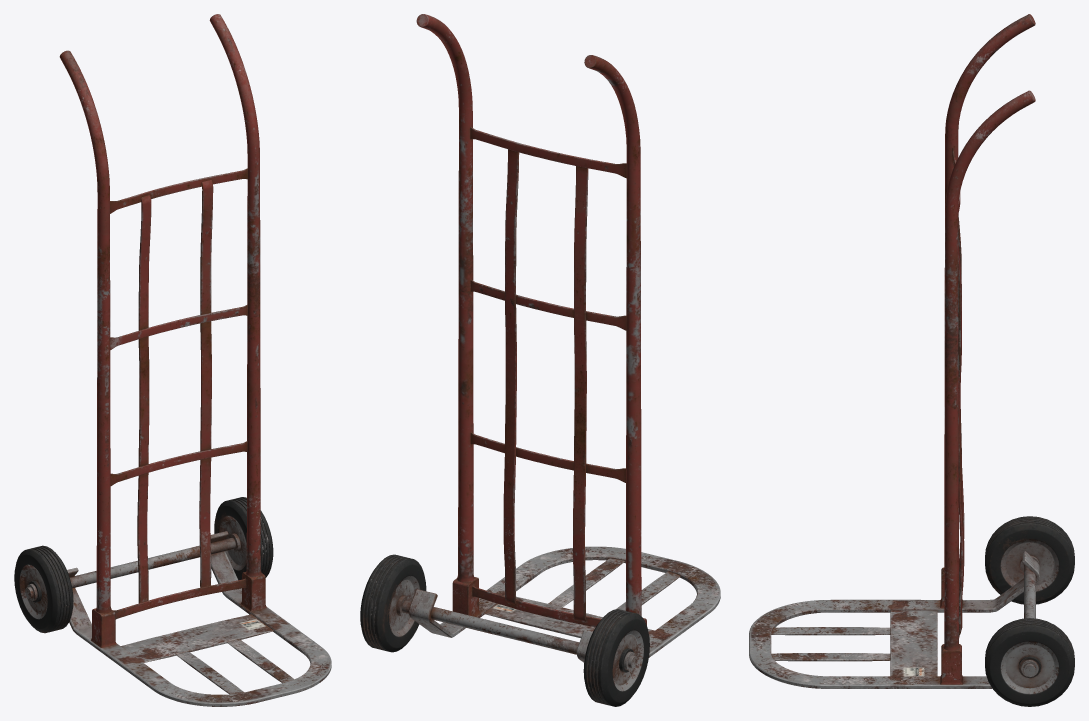
The model's file is ph-hand_truck.glb.
The picture shows the model from 3 angles, left to right: view 1: azimuth 30°, elevation 25°; view 2: azimuth 150°, elevation 25°; view 3: azimuth 270°, elevation 25°; orthographic projection. The views are drawn at different scales.
Parts seen in each view (by area): view 1: hand_truck; view 2: hand_truck; view 3: hand_truck.
Part boxes in pixels (box(x1,y1,x2,y2)): hand_truck: box(14, 14, 331, 706); hand_truck: box(360, 14, 720, 706); hand_truck: box(749, 14, 1074, 706).
Size of the model in its own units: 0.5933 by 1.4 by 0.6925.
Materials: 1 (1 with a texture image).
